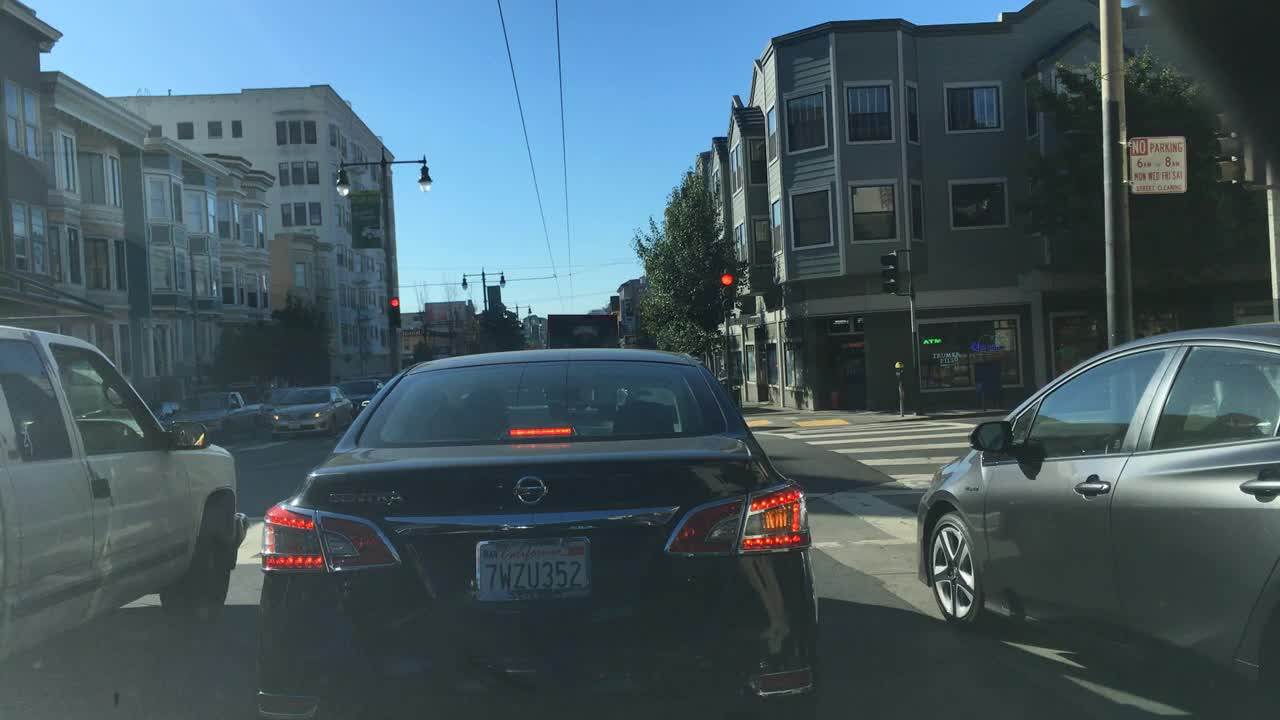car: (251, 346, 819, 715), (916, 320, 1278, 717), (0, 323, 250, 699), (163, 385, 262, 443), (265, 383, 353, 437), (337, 378, 390, 416), (262, 385, 298, 432), (143, 400, 179, 427)
traffic light: (1210, 89, 1259, 193), (879, 251, 899, 292), (720, 266, 736, 314), (389, 297, 402, 326)
traffic sign: (1131, 136, 1185, 192), (1233, 300, 1268, 322)
truck: (546, 311, 618, 349)
